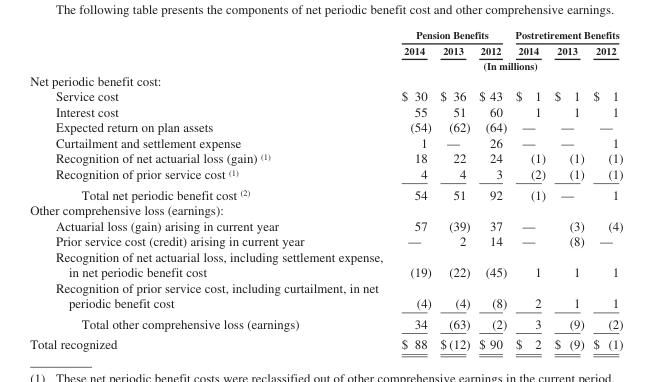table: (29, 28, 622, 351)
table column: (29, 28, 391, 351), (391, 28, 435, 351), (510, 28, 549, 351), (549, 28, 588, 351), (435, 28, 473, 351), (473, 28, 510, 351), (588, 28, 622, 351)
table column header: (29, 28, 622, 72)
table projected row header: (29, 72, 622, 88), (29, 201, 622, 217)
table row: (29, 279, 622, 313), (29, 248, 622, 279), (29, 313, 622, 333), (29, 165, 622, 183), (29, 183, 622, 201), (29, 333, 622, 351), (29, 72, 622, 88), (29, 103, 622, 119), (29, 134, 622, 150), (29, 201, 622, 217), (29, 232, 622, 248), (29, 42, 622, 57), (29, 57, 622, 72), (29, 88, 622, 103), (29, 119, 622, 134), (29, 150, 622, 165), (29, 217, 622, 232), (29, 28, 622, 42)
table spanning cell: (391, 57, 622, 72), (391, 28, 510, 42), (510, 28, 622, 42)
